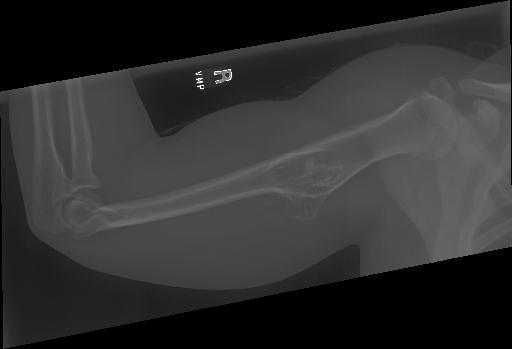humerus: (250, 126, 369, 245)
